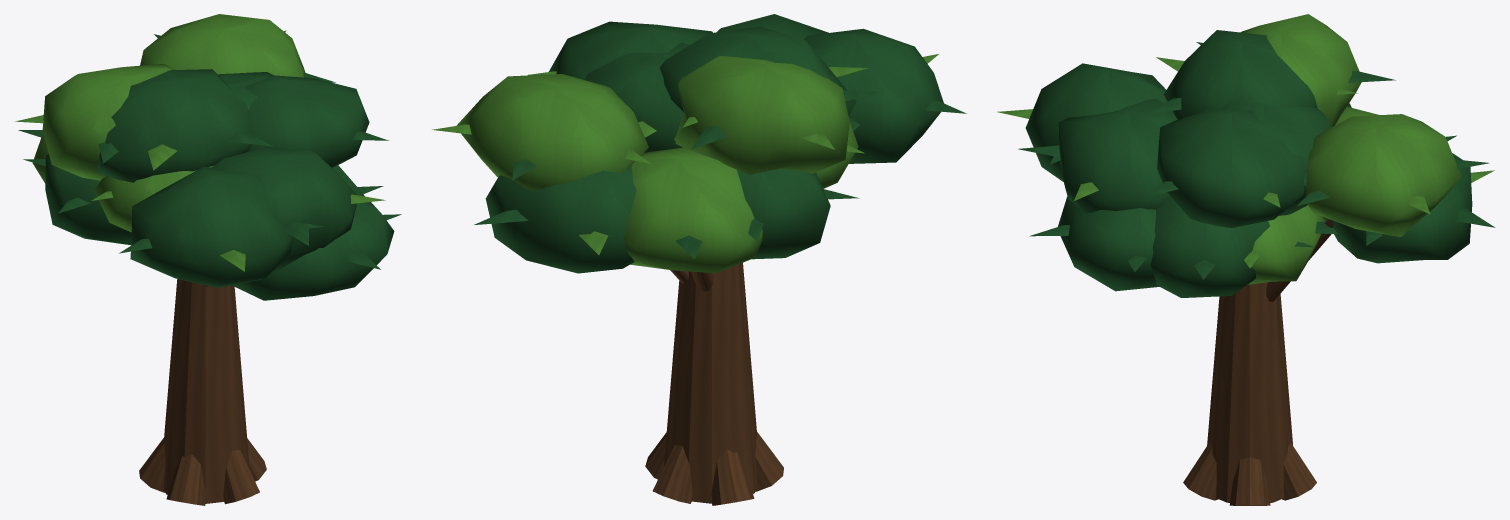
Rendered from jungle-tree.glb.
The picture shows the model from 3 angles, left to right: view 1: azimuth 30°, elevation 25°; view 2: azimuth 150°, elevation 25°; view 3: azimuth 270°, elevation 25°; orthographic projection. The views are drawn at different scales.
Visible parts, largest first — view 1: Surface CanopyGreen, Surface TropicalBark.001, Surface CanopySun, Fine CanopyGreen, Fine CanopySun; view 2: Surface CanopySun, Surface CanopyGreen, Surface TropicalBark.001, Fine CanopyGreen, Fine CanopySun; view 3: Surface CanopyGreen, Surface CanopySun, Surface TropicalBark.001, Fine CanopyGreen, Fine CanopySun.
Boxes of the visible parts, left/top/right/bottom form: Surface CanopyGreen: left=45, top=69, right=394, bottom=300; Surface TropicalBark.001: left=139, top=279, right=266, bottom=505; Surface CanopySun: left=32, top=14, right=305, bottom=232; Fine CanopyGreen: left=18, top=34, right=401, bottom=269; Fine CanopySun: left=15, top=30, right=385, bottom=271; Surface CanopySun: left=456, top=56, right=858, bottom=273; Surface CanopyGreen: left=485, top=14, right=943, bottom=273; Surface TropicalBark.001: left=645, top=262, right=783, bottom=505; Fine CanopyGreen: left=474, top=90, right=966, bottom=259; Fine CanopySun: left=432, top=54, right=938, bottom=254; Surface CanopyGreen: left=1025, top=30, right=1472, bottom=297; Surface CanopySun: left=1241, top=14, right=1461, bottom=284; Surface TropicalBark.001: left=1183, top=219, right=1333, bottom=505; Fine CanopyGreen: left=1018, top=42, right=1495, bottom=279; Fine CanopySun: left=997, top=57, right=1494, bottom=268.
Bounding box in the file's own units: 5.72 × 6.99 × 7.33.
3 materials, 3 textured.
